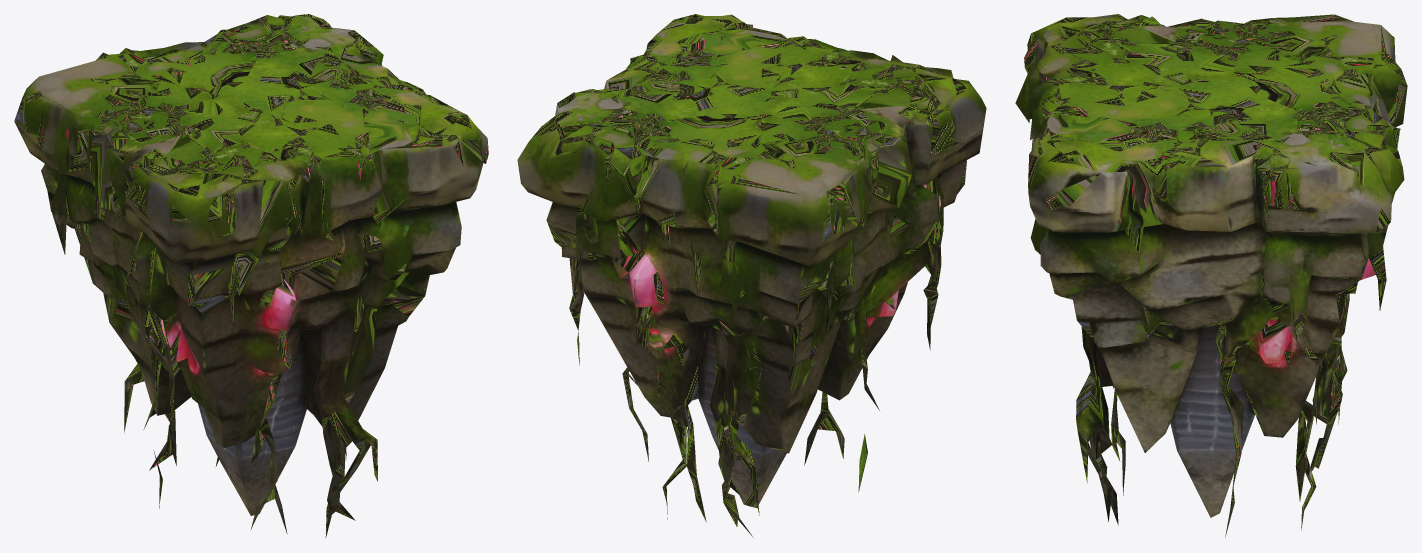
Rendered from stepping-stone-a-9uTmU_zh.glb.
The picture shows the model from 3 angles, left to right: view 1: azimuth 30°, elevation 25°; view 2: azimuth 150°, elevation 25°; view 3: azimuth 270°, elevation 25°; orthographic projection. The views are drawn at different scales.
Parts seen in each view (by area): view 1: geometry_0; view 2: geometry_0; view 3: geometry_0.
Boxes of the visible parts, x1,y1,x2,y2 form: geometry_0: (14, 14, 488, 538); geometry_0: (517, 14, 986, 537); geometry_0: (1015, 14, 1407, 536).
Bounding box in the file's own units: 1.95 × 2.36 × 1.96.
1 material, 1 textured.
